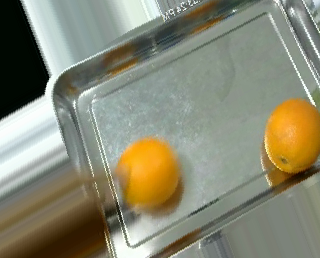Orange: (262, 97, 319, 173), (117, 138, 179, 207)
